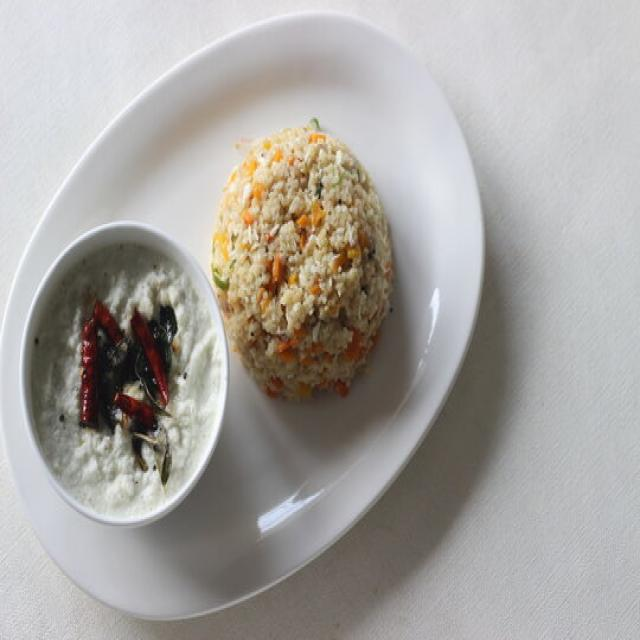UPMA: (211, 126, 391, 389)
